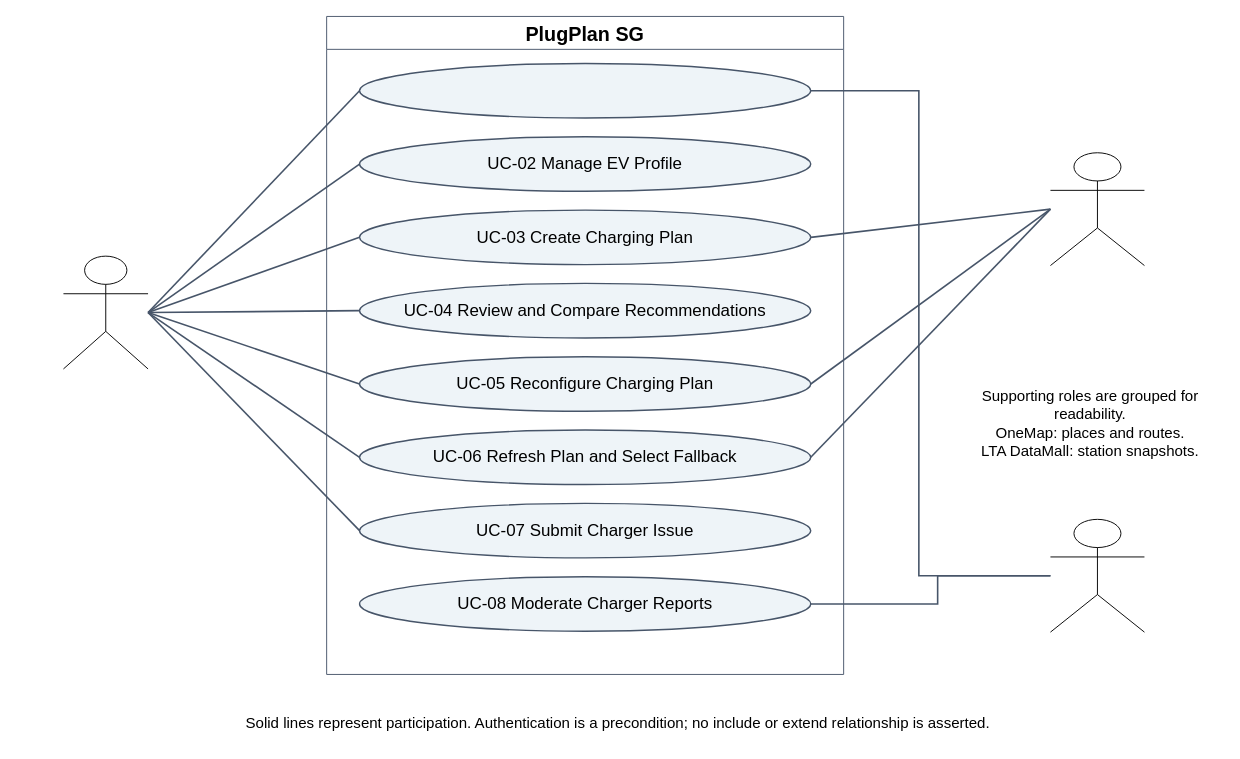
The diagram is 1240 pixels wide and 759 high, and some of its shapes have lost their labels. Each missing label, with the centre of its shape:
"Driver" belongs at (x=105, y=312).
"External Data Providers" belongs at (x=1090, y=295).
"Moderator" belongs at (x=1097, y=575).
"UC-01 Access Account" belongs at (x=584, y=90).
